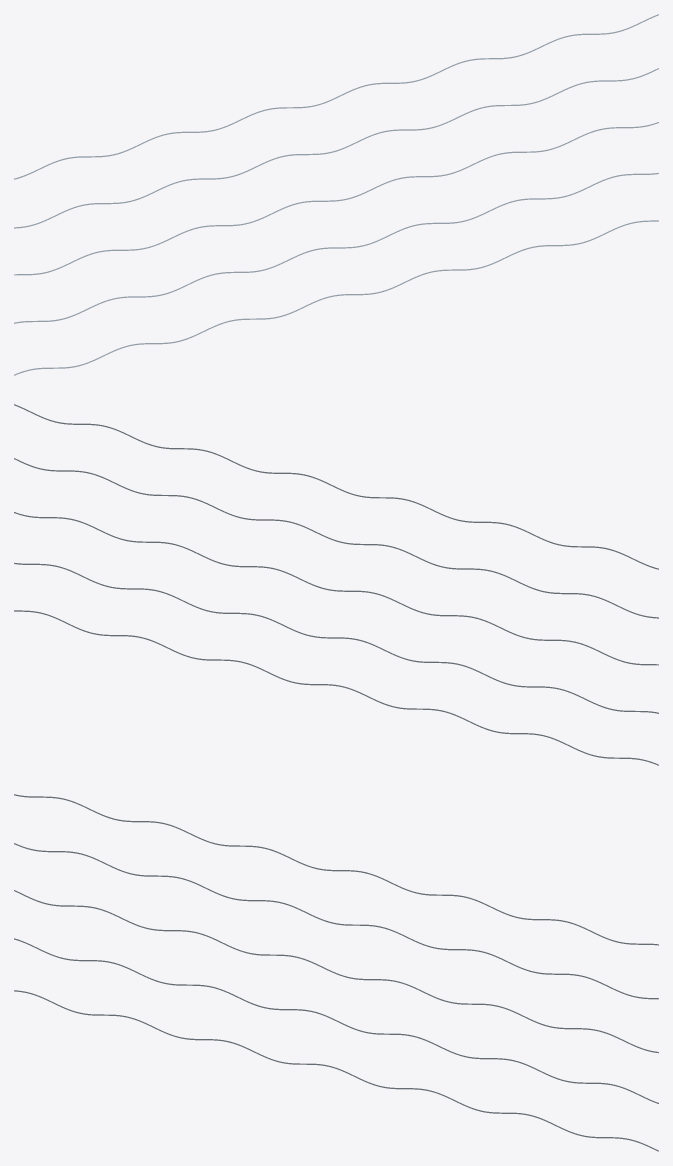
The model's file is ElementalGround_Hydro_GroundPattern2.fbx.
3 renders of one model, top to bottom at view 1: azimuth 30°, elevation 25°; view 2: azimuth 150°, elevation 25°; view 3: azimuth 330°, elevation 25°, orthographic.
Visible parts, largest first — view 1: PART_Hydro_ContinuousPattern2; view 2: PART_Hydro_ContinuousPattern2; view 3: PART_Hydro_ContinuousPattern2.
Part boxes in pixels (<box>): PART_Hydro_ContinuousPattern2: <box>14,14,658,375</box>; PART_Hydro_ContinuousPattern2: <box>14,404,658,765</box>; PART_Hydro_ContinuousPattern2: <box>14,794,658,1151</box>.
Size of the model in its own units: 1921 by 602 by 9.8e-05.
